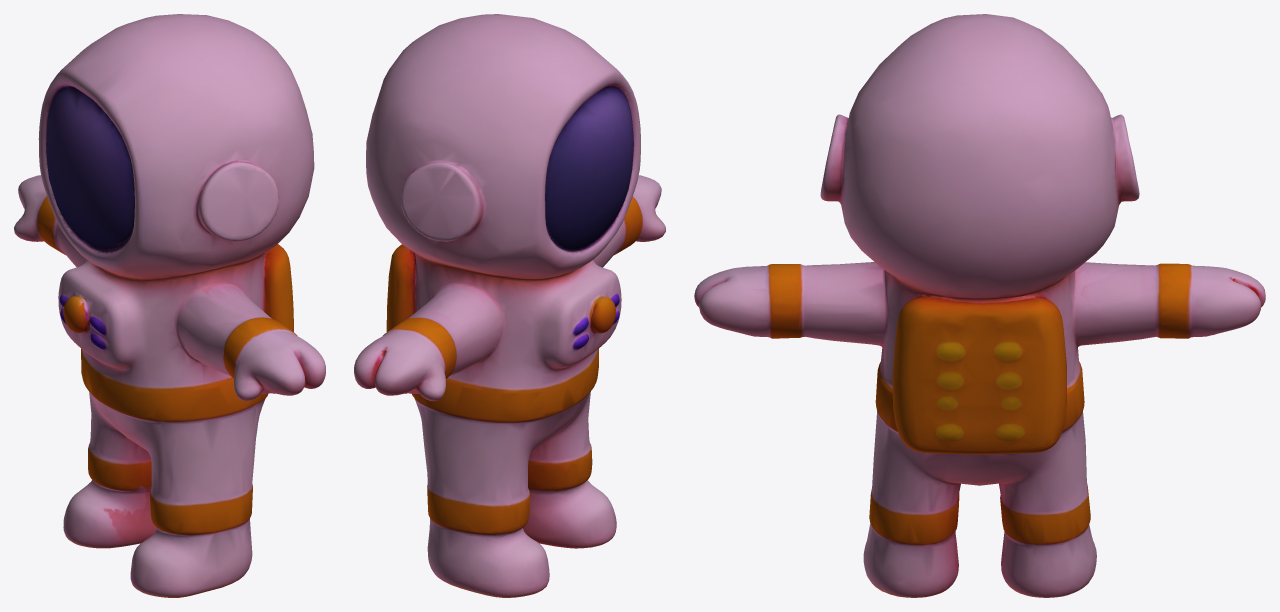
3 views of the same model, side by side, from view 1: azimuth 30°, elevation 25°; view 2: azimuth 150°, elevation 25°; view 3: azimuth 270°, elevation 25° (orthographic). The views are drawn at different scales.
Visible parts, largest first — view 1: world; view 2: world; view 3: world.
Boxes of the visible parts, x1,y1,x2,y2 form: world: (14,14,325,597); world: (354,14,665,597); world: (694,14,1265,597).
Bounding box in the file's own units: 0.8943 × 1.99 × 1.88.
1 material, 1 textured.
